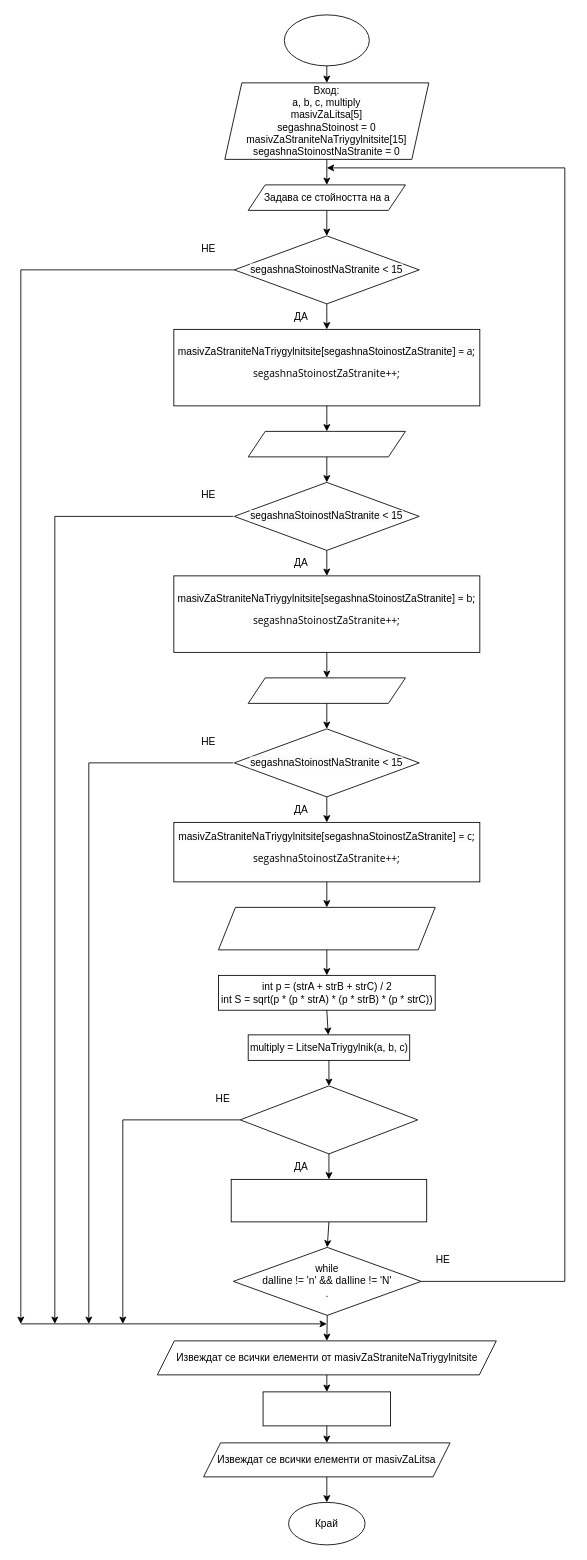
Image size: 587x1560. Some labels were removed from this diagram. Each missing label, with the centre of its shape:
masivZaLitsa се сортира: the point at 326,1408
masivZaLitsa[segashaStoinost] = multiply; segashnaStoinost++;: the point at 328,1200
segashaStoinost < 5: the point at 328,1119
Дефиниция на функцията LitseNaTriygylnik(int strA, int strB, int strC): the point at 326,928
Задава се стойността на b: the point at 326,444
Задава се стойността на c: the point at 326,690
НАЧАЛО: the point at 326,40
